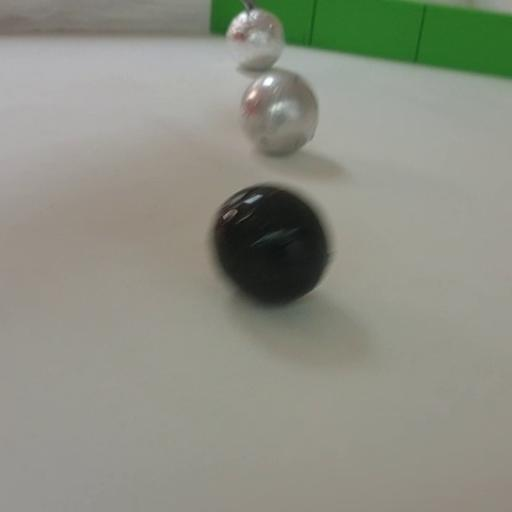alive: (240, 69, 320, 157), (226, 2, 284, 72)
dead: (210, 182, 331, 305)
